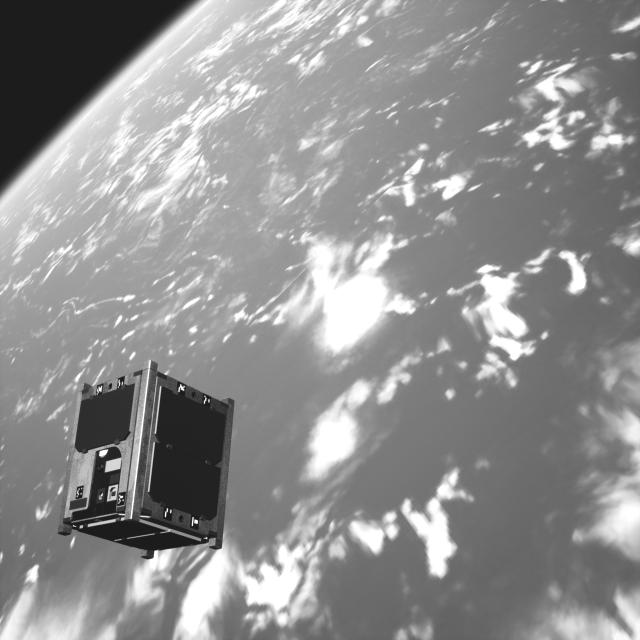satellite: (54, 366, 240, 558)
